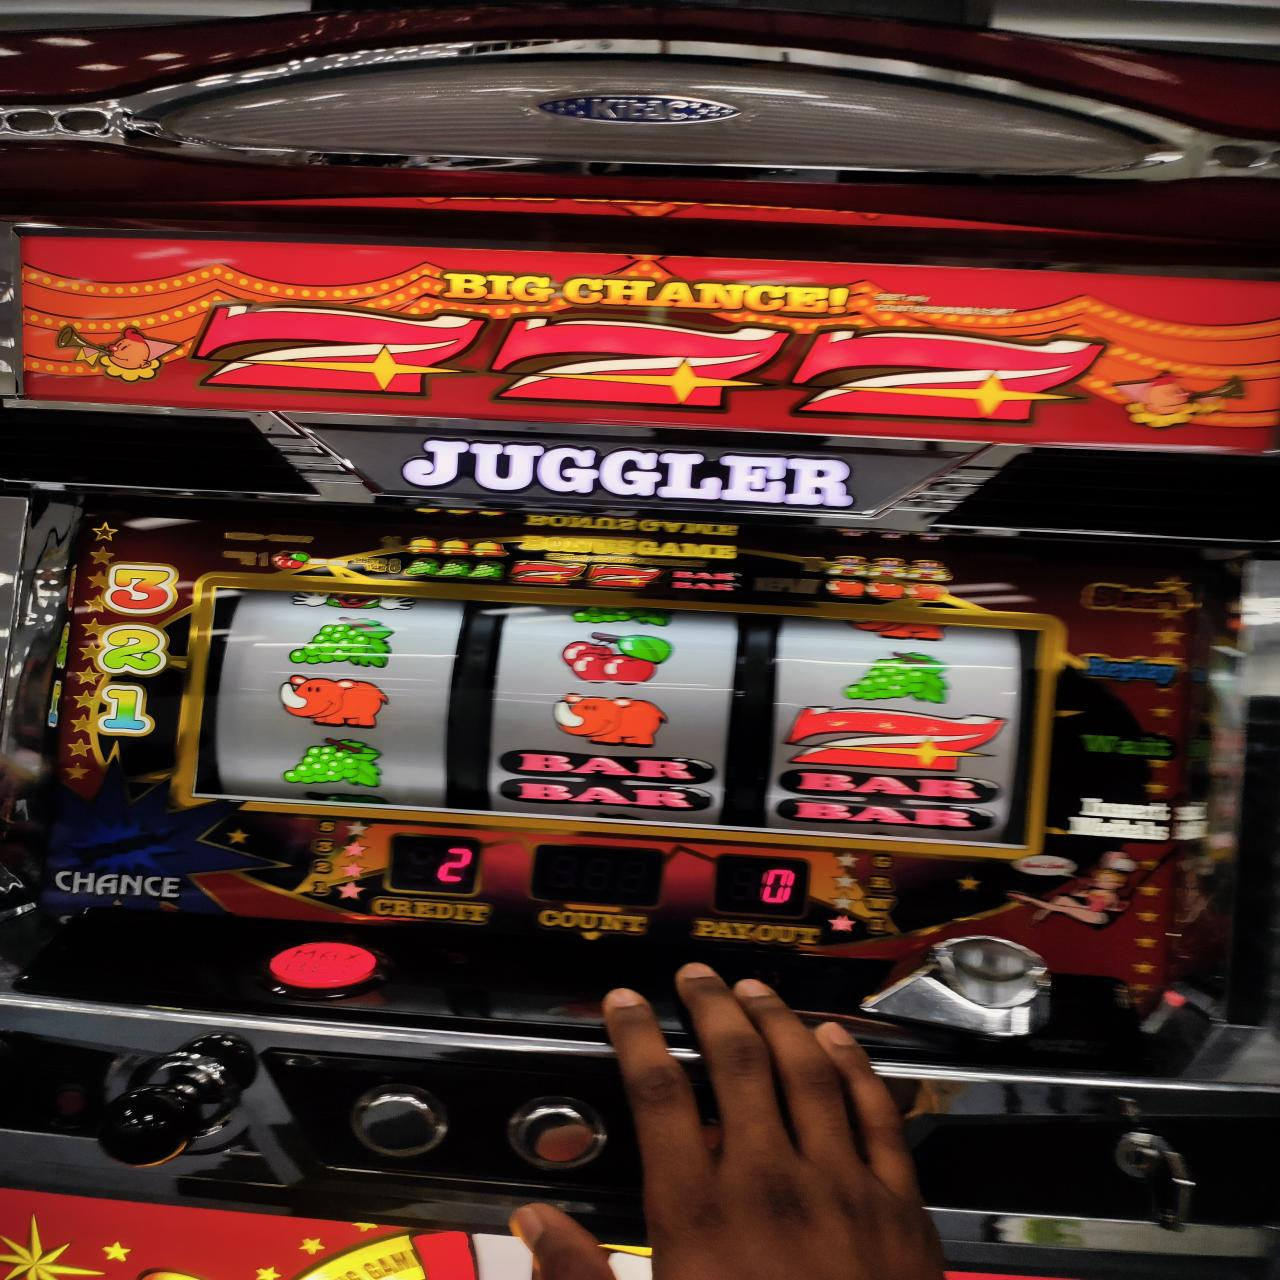7: (785, 703, 1001, 769)
8: (556, 693, 668, 744), (359, 703, 366, 706)
Display: (210, 586, 1028, 851)
bar: (496, 747, 713, 813), (774, 769, 1002, 830)
cherry: (561, 629, 679, 686), (275, 676, 395, 728)
grape: (839, 651, 958, 703), (282, 615, 396, 669), (282, 736, 381, 788)
